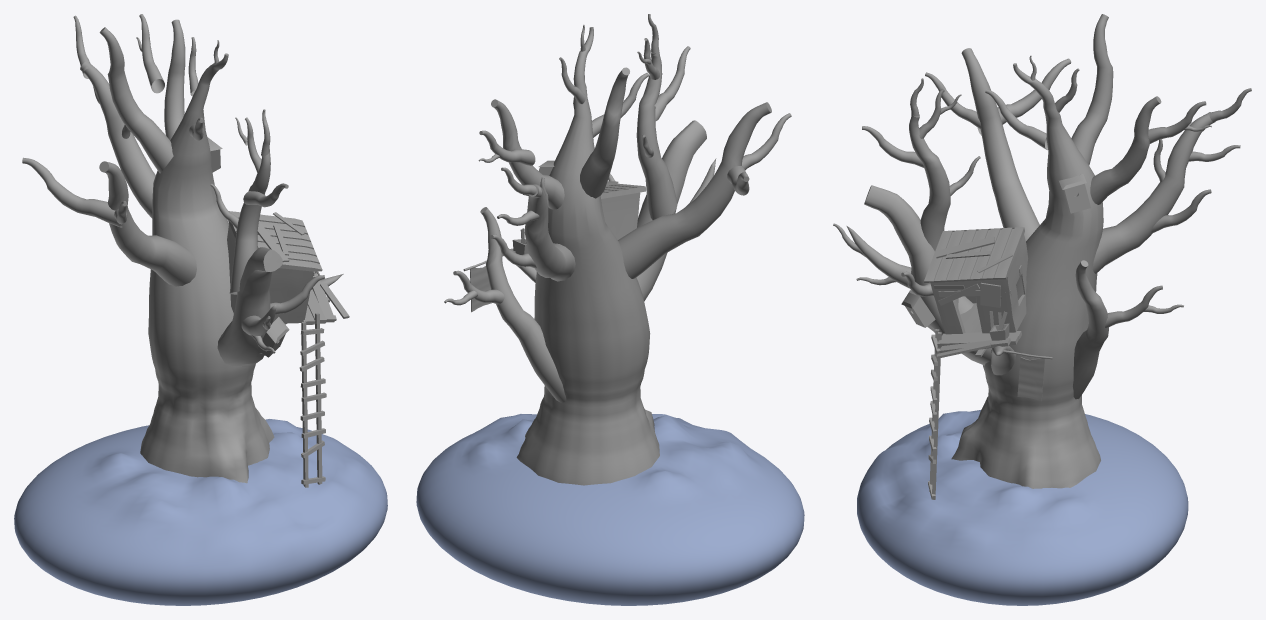
Rendered from treeHouseGEO.fbx.
The picture shows the model from 3 angles, left to right: view 1: azimuth 30°, elevation 25°; view 2: azimuth 150°, elevation 25°; view 3: azimuth 270°, elevation 25°; orthographic projection. The views are drawn at different scales.
Parts seen in each view (by area): view 1: treeGEO, snowGround, stege, roof, base, houseExtras, fagelbo1; view 2: treeGEO, snowGround, base, houseExtras; view 3: treeGEO, snowGround, houseExtras, base, roof, stege, fagelbo2, fagelbo1.
Boxes of the visible parts, bbox=[...] form: treeGEO: bbox=[22, 14, 343, 483]; snowGround: bbox=[14, 419, 387, 605]; stege: bbox=[299, 312, 326, 487]; roof: bbox=[228, 211, 322, 271]; base: bbox=[227, 223, 313, 323]; houseExtras: bbox=[257, 212, 349, 324]; fagelbo1: bbox=[257, 317, 289, 357]; treeGEO: bbox=[444, 14, 791, 485]; snowGround: bbox=[416, 414, 804, 605]; base: bbox=[528, 192, 640, 239]; houseExtras: bbox=[463, 181, 618, 312]; treeGEO: bbox=[833, 14, 1251, 488]; snowGround: bbox=[857, 410, 1188, 605]; houseExtras: bbox=[934, 236, 1052, 401]; base: bbox=[930, 235, 1028, 334]; roof: bbox=[924, 227, 1024, 282]; stege: bbox=[928, 329, 941, 499]; fagelbo2: bbox=[1059, 174, 1090, 213]; fagelbo1: bbox=[901, 290, 935, 332].
Size of the model in its own units: 9.31 by 13.99 by 10.14.
